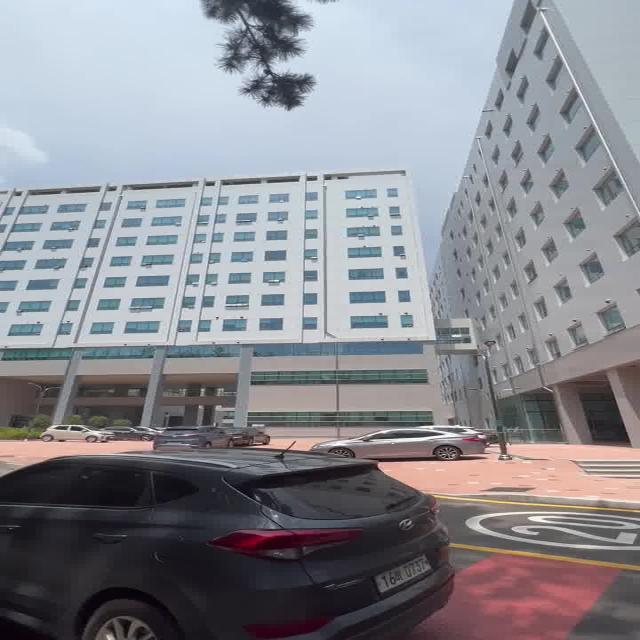building: (18, 168, 458, 412)
